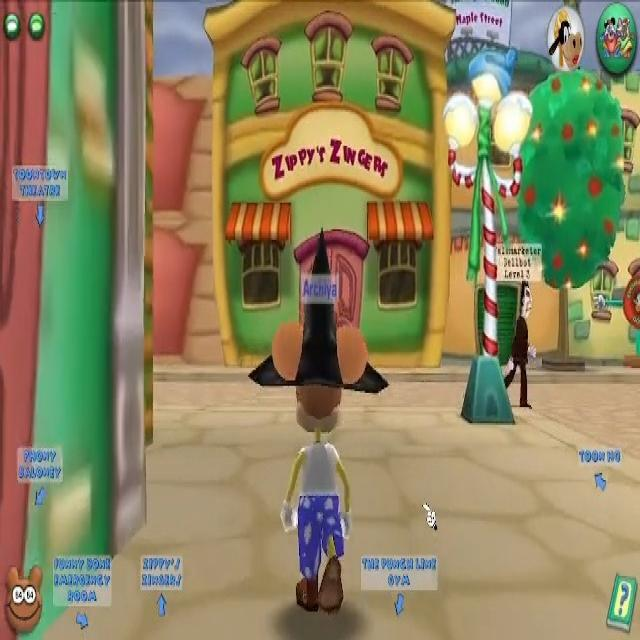telemarketer: (494, 242, 541, 410)
